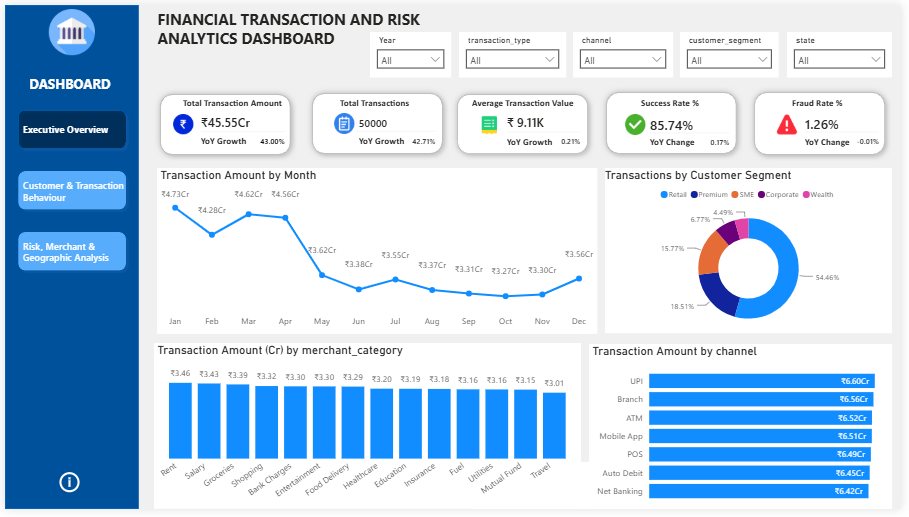

What the dashboard file says about the page in this screenshot:
{"tool":"powerbi","page":{"name":"Executive Overview","canvas":[1280,720],"ordinal":0},"visuals":[{"type":"slicer","fields":{"Values":["Date.Date.Variation.Date Hierarchy.Year"]},"box":[521.2,38.8,116.2,65],"z":0,"group":"g2"},{"type":"shape","box":[850.5,116.3,204,105.6],"z":0},{"type":"shape","box":[0,0,191.4,720],"z":1000},{"type":"slicer","fields":{"Values":["finance_transactions.transaction_type"]},"box":[648.1,38.8,152.5,65],"z":1000,"group":"g2"},{"type":"slicer","fields":{"Values":["finance_transactions.channel"]},"box":[811.2,38.8,142.5,65],"z":2000,"group":"g2"},{"type":"shape","box":[1061.7,115.5,204.6,107.1],"z":2000},{"type":"slicer","fields":{"Values":["customers.customer_segment"]},"box":[964.3,38.8,141.2,65],"z":3000,"group":"g2"},{"type":"lineChart","fields":{"Category":["Date.month_Name"],"Y":["Measure.Total Transaction Amount(Cr)"]},"box":[216.7,233.3,628.9,236.7],"z":3000},{"type":"textbox","box":[213.3,0,400,68.3],"z":4000},{"type":"slicer","fields":{"Values":["customers.state"]},"box":[1116.2,38.8,150,65],"z":4000,"group":"g2"},{"type":"textbox","box":[666.7,653.3,191.7,66.7],"z":5000},{"type":"group","id":"g1","title":"Group 5","box":[213.2,118.6,204.1,104.5],"z":6000},{"type":"group","id":"g2","title":"Group 8","box":[521.2,38.8,745,65],"z":7000},{"type":"shape","box":[213.2,118.6,204.1,104.3],"z":7000,"group":"g1"},{"type":"textbox","box":[254.7,130,144.7,19.5],"z":8000},{"type":"shape","box":[430,116.6,204.1,104.3],"z":9000},{"type":"cardVisual","fields":{"Data":["Measure.Total Transaction Amount(Cr)"]},"box":[279.8,151.4,120.9,57.7],"z":9000,"group":"g1"},{"type":"textbox","box":[478.8,130,105.6,19.4],"z":10000},{"type":"cardVisual","fields":{"Data":["Measure.Fraud_rate_%"]},"box":[1143.2,156.4,106.8,50.9],"z":11000},{"type":"shape","box":[637.8,117.9,204.6,103],"z":12000},{"type":"textbox","box":[666.8,130,155.8,19.5],"z":13000},{"type":"cardVisual","fields":{"Data":["Measure.Success_rate"]},"box":[921.4,157.1,114.3,50],"z":14000},{"type":"textbox","box":[909.1,130,89.1,19.1],"z":15000},{"type":"cardVisual","fields":{"Data":["Measure.Total_transactions"]},"box":[501.8,152.7,114.5,54.5],"z":16000},{"type":"textbox","box":[1124.3,130,78.7,19.1],"z":17000},{"type":"image","box":[237.3,156.4,34.5,29.1],"z":18000},{"type":"cardVisual","fields":{"Data":["Measure.Avg_transaction_value"]},"box":[716.7,152.5,105.8,55],"z":19000},{"type":"image","box":[467.3,154.5,34.5,29.5],"z":20000},{"type":"image","box":[673.9,156.1,34.4,29.4],"z":21000},{"type":"image","box":[882.7,155.5,35,29.5],"z":22000},{"type":"image","box":[1099.5,155.5,34,29.5],"z":23000},{"type":"barChart","fields":{"Category":["finance_transactions.channel"],"Y":["Measure.Total Transaction Amount(Cr)"]},"box":[833.6,483.6,432.7,236.4],"z":24000},{"type":"columnChart","fields":{"Category":["finance_transactions.merchant_category"],"Y":["Measure.Total Transaction Amount(Cr)"]},"box":[212.9,482.9,610,237.1],"z":25000},{"type":"donutChart","fields":{"Category":["customers.customer_segment"],"Y":["Measure.Total Transaction Amount(Cr)"]},"box":[856.7,233.3,410,235.6],"z":26000},{"type":"textbox","box":[280,184.2,70,17.7],"z":27000},{"type":"textbox","box":[506.4,184.1,68.2,17.7],"z":28000},{"type":"textbox","box":[716.8,185.5,70.9,17.7],"z":29000},{"type":"textbox","box":[921.4,185.9,72.7,17.7],"z":30000},{"type":"textbox","box":[1143.2,185.9,72.7,17.7],"z":31000},{"type":"image","box":[48.5,5.8,94.2,65.8],"z":32000},{"type":"textbox","box":[0,94.5,185.5,35.5],"z":33000},{"type":"pageNavigator","box":[12.2,144.4,166.7,241.1],"z":35000},{"type":"actionButton","box":[72.9,661.4,38.6,40],"z":36000}]}

Visuals, with their boxes in screenshot pixels (x1, y1, x2, y2), scaled from the page's 1280x720 canvas onto the 909x517 screenshot:
slicer - Date.Date.Variation.Date Hierarchy.Year: <bbox>370, 28, 453, 75</bbox>
shape: <bbox>604, 84, 749, 159</bbox>
shape: <bbox>0, 0, 136, 516</bbox>
slicer - finance_transactions.transaction_type: <bbox>460, 28, 569, 75</bbox>
slicer - finance_transactions.channel: <bbox>576, 28, 677, 75</bbox>
shape: <bbox>754, 83, 899, 160</bbox>
slicer - customers.customer_segment: <bbox>685, 28, 785, 75</bbox>
lineChart - Date.month_Name x Measure.Total Transaction Amount(Cr): <bbox>154, 168, 601, 337</bbox>
textbox: <bbox>151, 0, 436, 49</bbox>
slicer - customers.state: <bbox>793, 28, 899, 75</bbox>
textbox: <bbox>473, 469, 610, 516</bbox>
"Group 5" group: <bbox>151, 85, 296, 160</bbox>
"Group 8" group: <bbox>370, 28, 899, 75</bbox>
shape: <bbox>151, 85, 296, 160</bbox>
textbox: <bbox>181, 93, 284, 107</bbox>
shape: <bbox>305, 84, 450, 159</bbox>
cardVisual - Measure.Total Transaction Amount(Cr): <bbox>199, 109, 285, 150</bbox>
textbox: <bbox>340, 93, 415, 107</bbox>
cardVisual - Measure.Fraud_rate_%: <bbox>812, 112, 888, 149</bbox>
shape: <bbox>453, 85, 598, 159</bbox>
textbox: <bbox>474, 93, 584, 107</bbox>
cardVisual - Measure.Success_rate: <bbox>654, 113, 736, 149</bbox>
textbox: <bbox>646, 93, 709, 107</bbox>
cardVisual - Measure.Total_transactions: <bbox>356, 110, 438, 149</bbox>
textbox: <bbox>798, 93, 854, 107</bbox>
image: <bbox>169, 112, 193, 133</bbox>
cardVisual - Measure.Avg_transaction_value: <bbox>509, 110, 584, 149</bbox>
image: <bbox>332, 111, 356, 132</bbox>
image: <bbox>479, 112, 503, 133</bbox>
image: <bbox>627, 112, 652, 133</bbox>
image: <bbox>781, 112, 805, 133</bbox>
barChart - finance_transactions.channel x Measure.Total Transaction Amount(Cr): <bbox>592, 347, 899, 516</bbox>
columnChart - finance_transactions.merchant_category x Measure.Total Transaction Amount(Cr): <bbox>151, 347, 584, 516</bbox>
donutChart - customers.customer_segment x Measure.Total Transaction Amount(Cr): <bbox>608, 168, 900, 337</bbox>
textbox: <bbox>199, 132, 249, 145</bbox>
textbox: <bbox>360, 132, 408, 145</bbox>
textbox: <bbox>509, 133, 559, 146</bbox>
textbox: <bbox>654, 133, 706, 146</bbox>
textbox: <bbox>812, 133, 863, 146</bbox>
image: <bbox>34, 4, 101, 51</bbox>
textbox: <bbox>0, 68, 132, 93</bbox>
pageNavigator: <bbox>9, 104, 127, 277</bbox>
actionButton: <bbox>52, 475, 79, 504</bbox>
